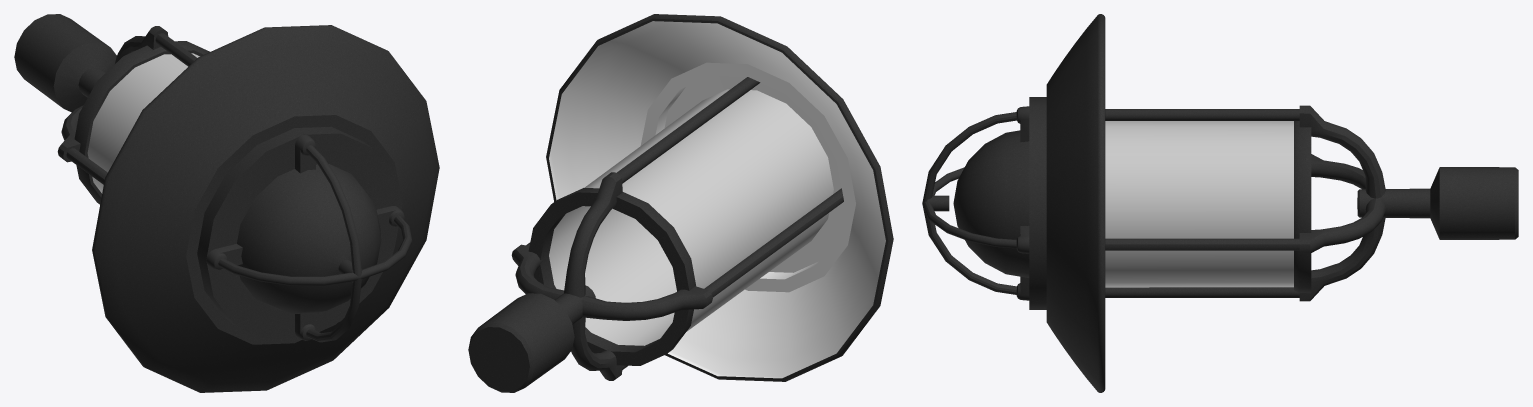
File: Alte Stadt.obj
3 renders of one model, left to right at view 1: azimuth 30°, elevation 25°; view 2: azimuth 150°, elevation 25°; view 3: azimuth 270°, elevation 25°, orthographic. The views are drawn at different scales.
Visible parts, largest first — view 1: Alte_Stadt_BezierCurve; view 2: Alte_Stadt_BezierCurve; view 3: Alte_Stadt_BezierCurve.
Part boxes in pixels (bbox=[...]): Alte_Stadt_BezierCurve: bbox=[14, 14, 439, 392]; Alte_Stadt_BezierCurve: bbox=[468, 14, 893, 392]; Alte_Stadt_BezierCurve: bbox=[922, 14, 1518, 392].
Size of the model in its own units: 0.5238 by 0.5238 by 0.8235.
3 materials, 2 textured.
